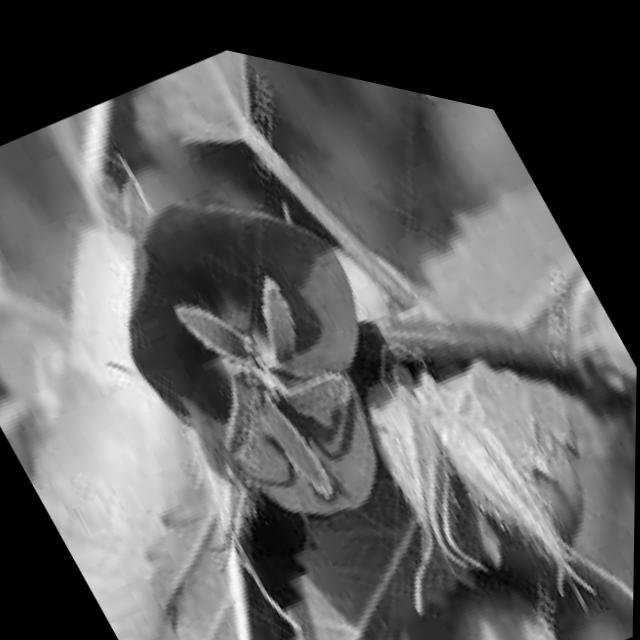Flower: (51, 97, 462, 594)
